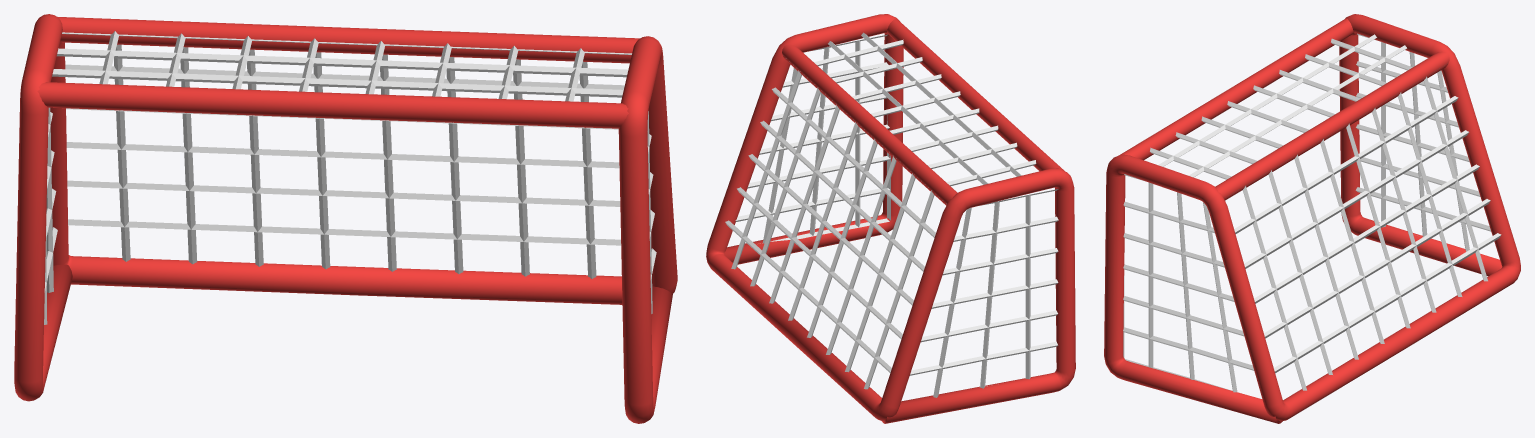
Rendered from goal_net.glb.
3 views of the same model, side by side, from view 1: azimuth 30°, elevation 25°; view 2: azimuth 150°, elevation 25°; view 3: azimuth 270°, elevation 25° (orthographic). The views are drawn at different scales.
Visible parts, largest first — view 1: Cylinder.476, Plane.306; view 2: Cylinder.476, Plane.306; view 3: Cylinder.476, Plane.306.
Boxes of the visible parts, bbox=[...] form: Cylinder.476: bbox=[14, 14, 677, 423]; Plane.306: bbox=[44, 31, 656, 324]; Cylinder.476: bbox=[706, 14, 1075, 423]; Plane.306: bbox=[725, 32, 1058, 397]; Cylinder.476: bbox=[1104, 14, 1520, 423]; Plane.306: bbox=[1123, 33, 1501, 392].
Bounding box in the file's own units: 2.47 × 1.29 × 2.19.
Materials: 1 (1 with a texture image).
